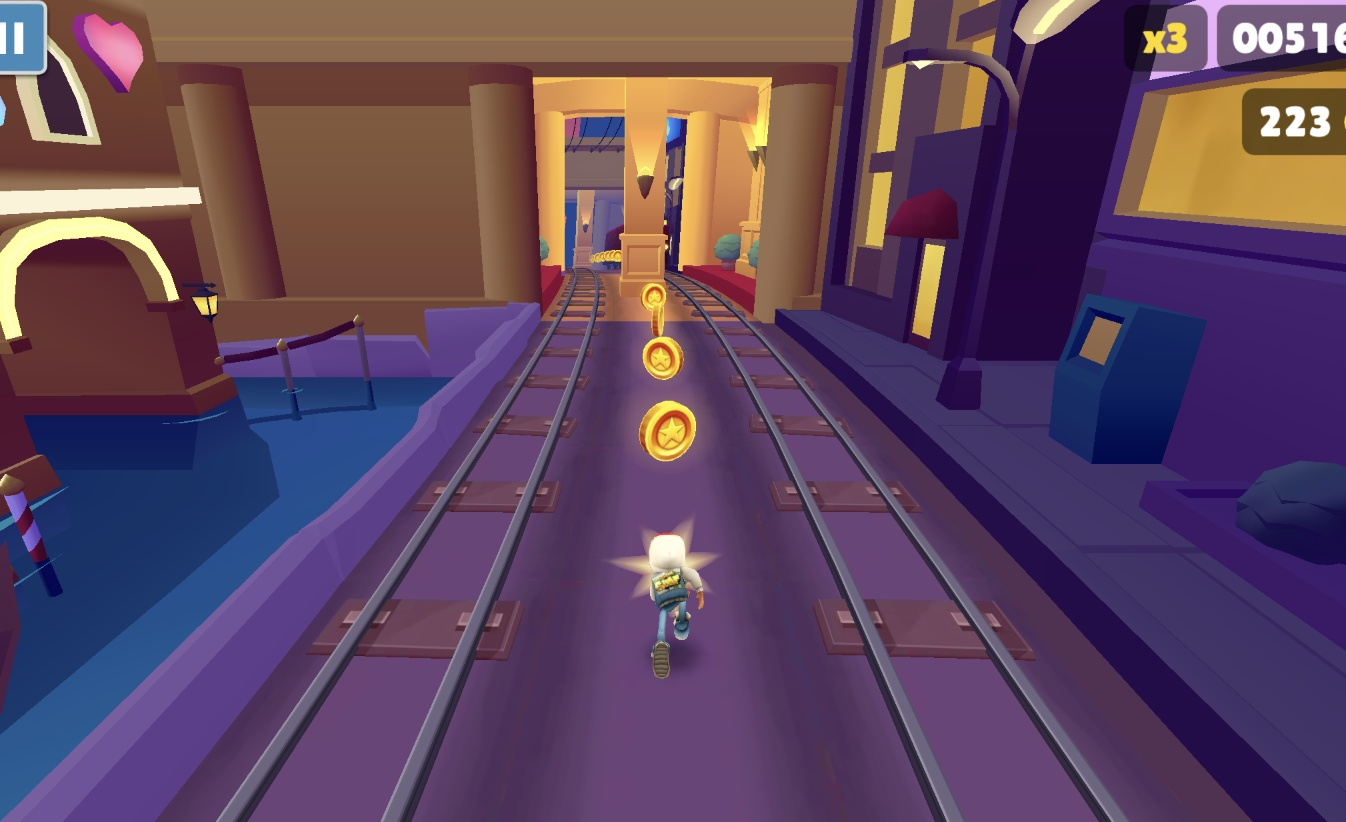pillar: (618, 86, 668, 282), (574, 194, 600, 268)
